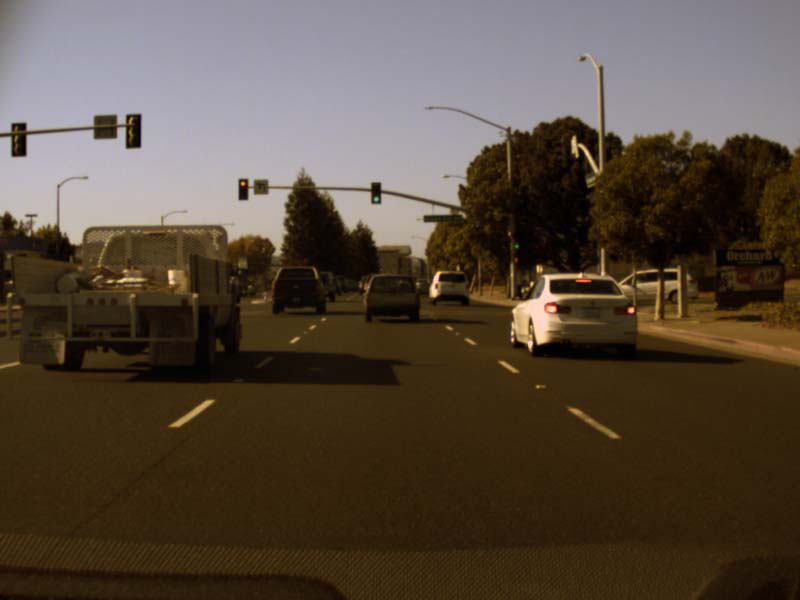Green: (370, 181, 380, 203), (514, 235, 519, 249)
Red: (238, 178, 247, 200)
